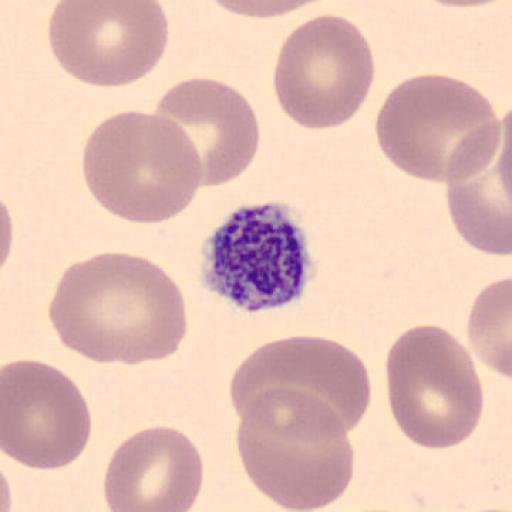Platelet: (196, 197, 320, 312)
RBC: (46, 250, 190, 366), (234, 383, 355, 512), (228, 334, 374, 436), (80, 107, 204, 226), (372, 72, 501, 183), (384, 322, 485, 450), (150, 76, 261, 189), (272, 12, 376, 130), (46, 0, 172, 89), (47, 252, 146, 364), (92, 254, 190, 365), (2, 360, 93, 471), (445, 113, 512, 258), (102, 423, 206, 512), (466, 275, 512, 382), (200, 0, 332, 18), (0, 194, 14, 276), (0, 462, 14, 512), (416, 0, 507, 7)
